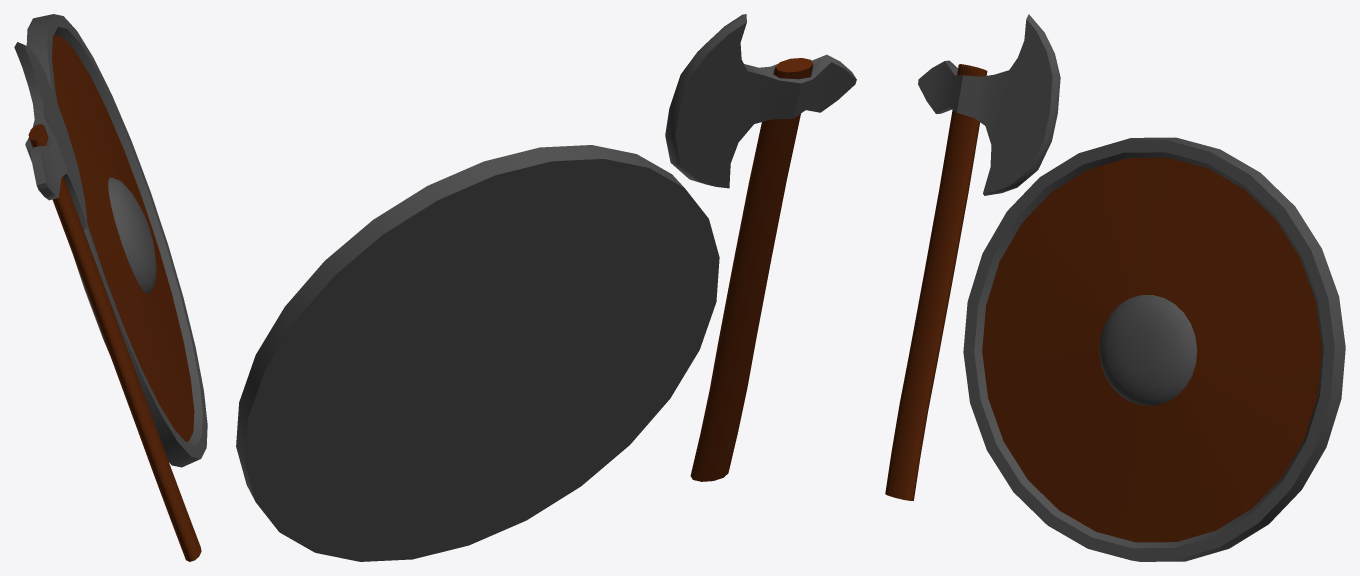
File: Hacha y Escudo.FBX
3 views of the same model, side by side, from view 1: azimuth 30°, elevation 25°; view 2: azimuth 150°, elevation 25°; view 3: azimuth 270°, elevation 25° (orthographic). The views are drawn at different scales.
Visible parts, largest first — view 1: Hacha; view 2: Hacha; view 3: Hacha.
Part boxes in pixels (left/top/right/bottom): Hacha: left=14, top=14, right=207, bottom=561; Hacha: left=236, top=14, right=856, bottom=561; Hacha: left=885, top=14, right=1345, bottom=561.
Bounding box in the file's own units: 21.65 × 30.43 × 28.52.
